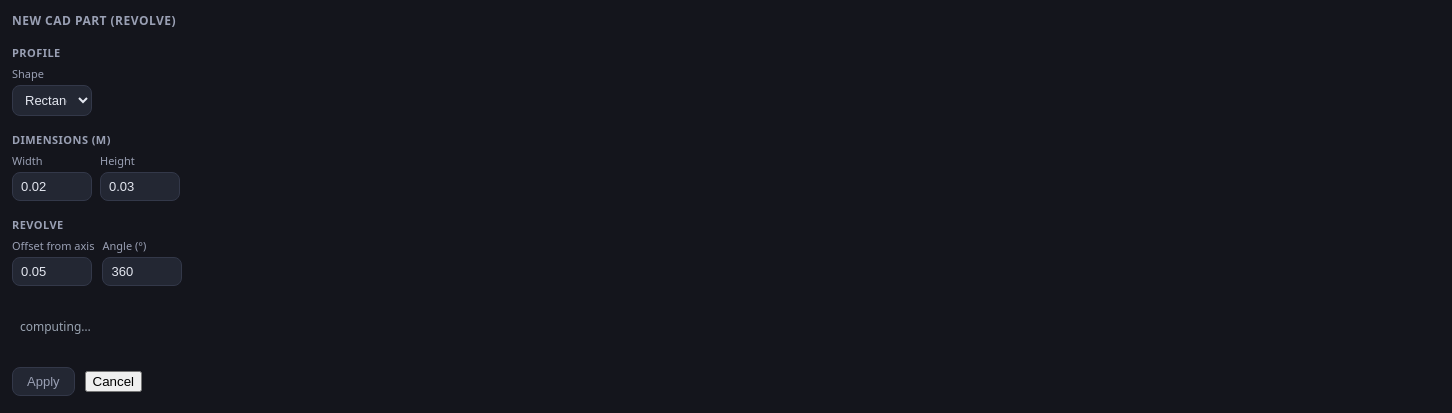
CadRevolveCreator › rejects an angle outside (0, 360] locally
Replace the text in the number field named "cad angle" with "400". click: (142, 272)
box: x1=102 y1=257 x2=182 y2=286
Wait 400 ms
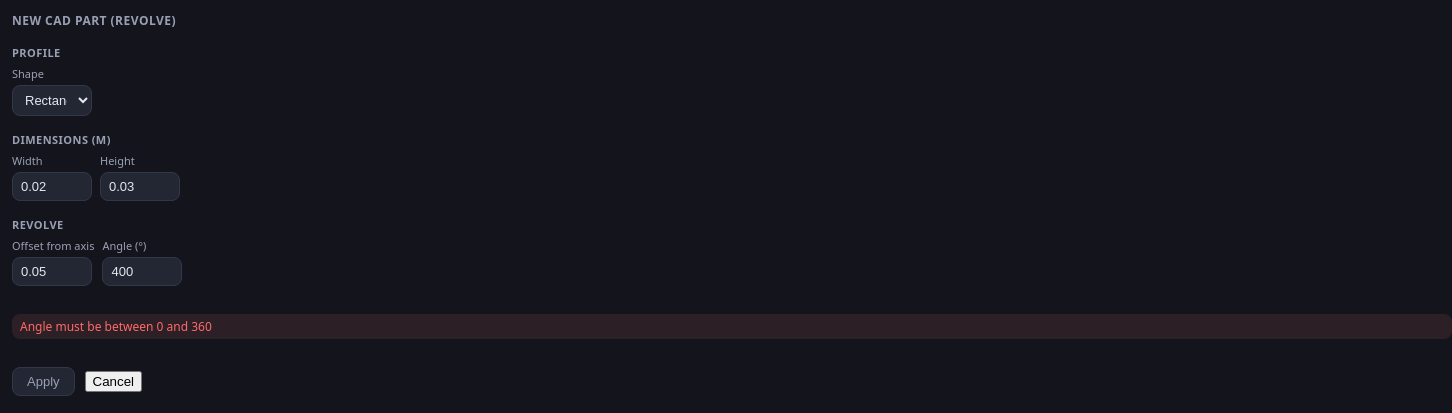
Expected: the text "Angle must be between 0 and 360" is shown, x1=12 y1=314 x2=1451 y2=339
